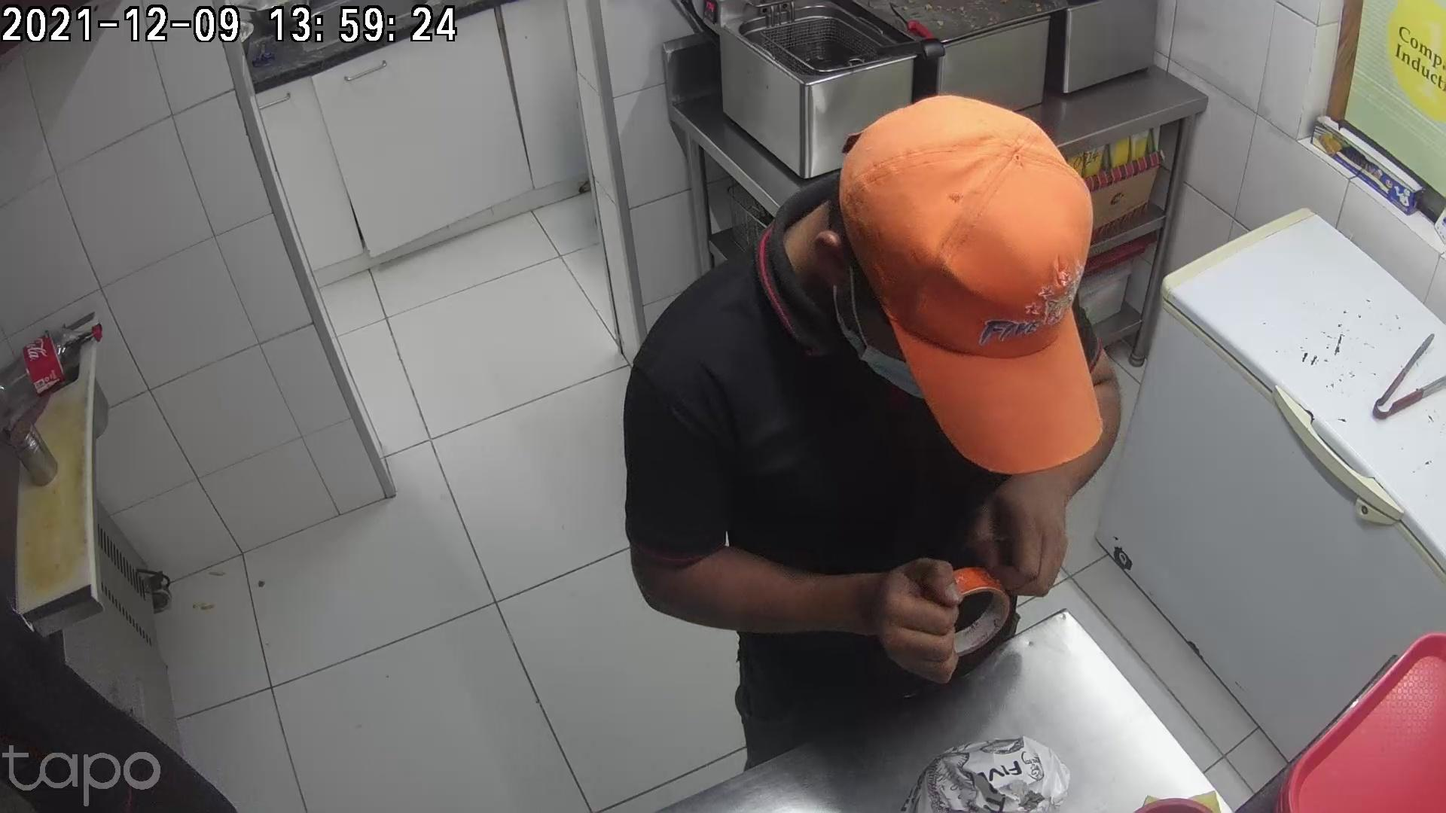no_gloves: (818, 561, 960, 680), (982, 471, 1067, 585)
